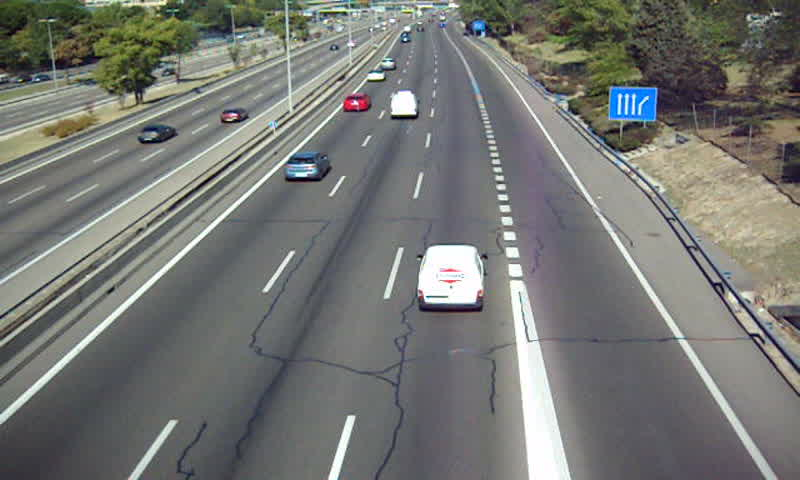car: (284, 150, 331, 181), (343, 93, 369, 111), (366, 69, 385, 82), (380, 57, 394, 70)
van: (417, 245, 484, 309), (390, 90, 417, 119)
